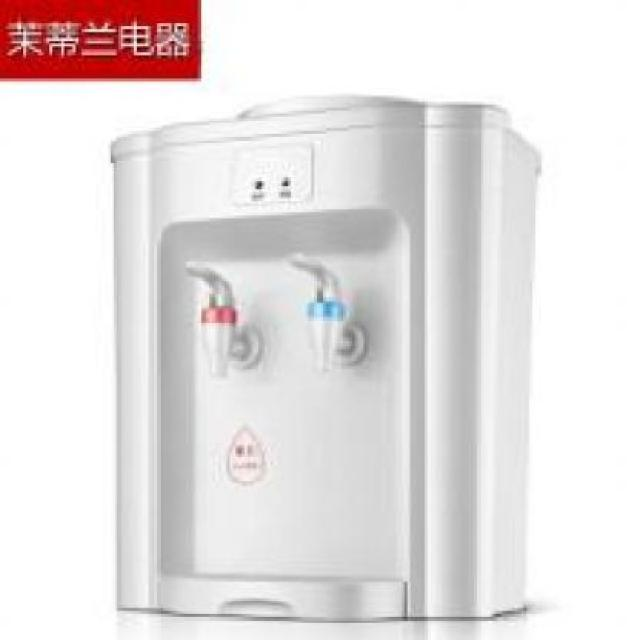cooler: (109, 86, 534, 622)
